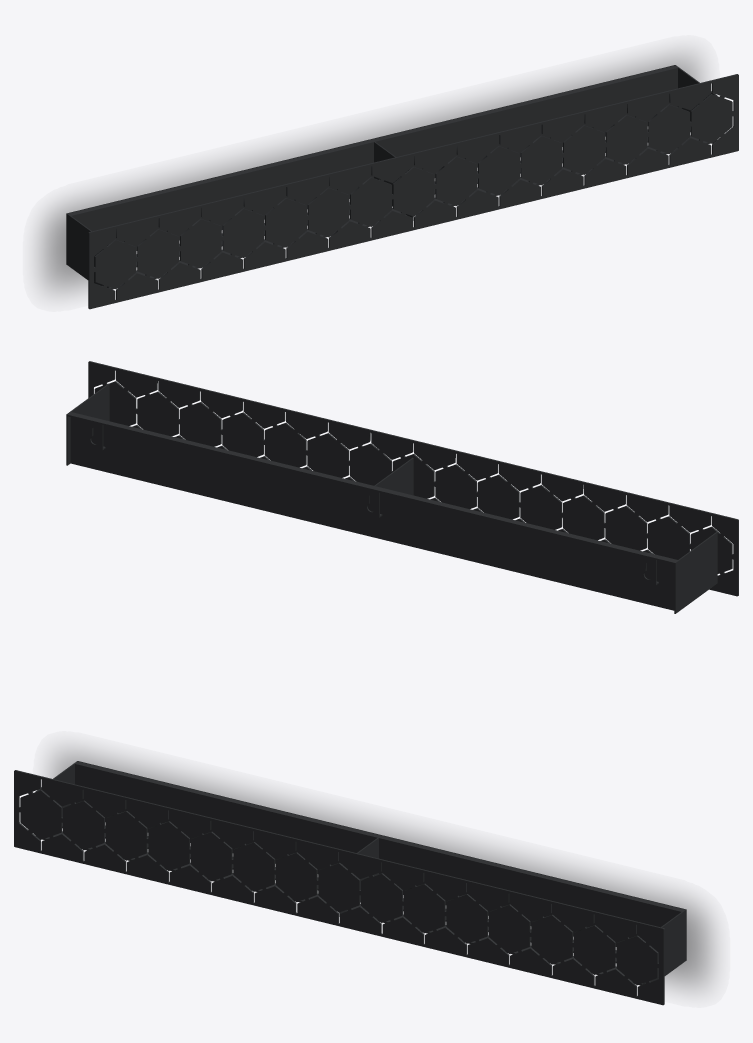
The model's file is bee-mono.20da981218.ar.glb.
3 renders of one model, top to bottom at view 1: azimuth 30°, elevation 25°; view 2: azimuth 150°, elevation 25°; view 3: azimuth 330°, elevation 25°, orthographic.
Visible parts, largest first — view 1: NAUO1, object 2; view 2: NAUO1; view 3: NAUO1, object 2.
Part boxes in pixels (x1,y1,x2,y2): NAUO1: [66, 65, 738, 309]; object 2: [38, 53, 703, 293]; NAUO1: [66, 361, 738, 613]; NAUO1: [14, 761, 686, 1005]; object 2: [49, 749, 714, 989].
Bounding box in the file's own units: 0.88 × 0.17 × 0.092.
Materials: 2 (1 with a texture image).
